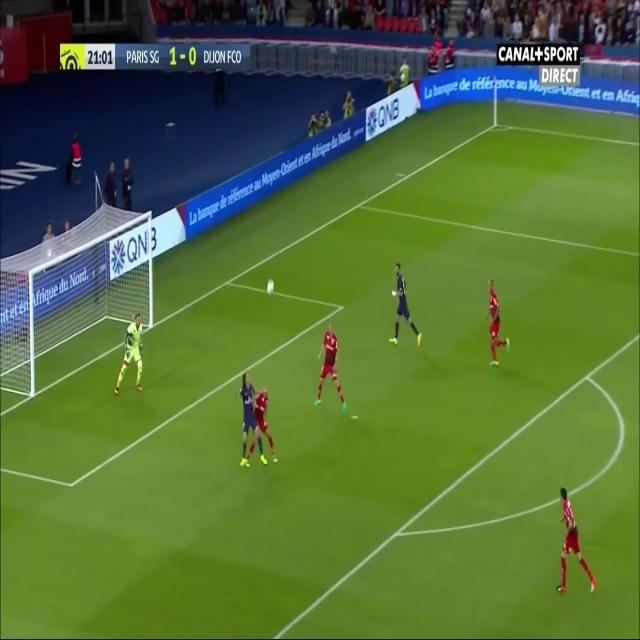Ball: (266, 277, 278, 297)
Goalkeeper: (112, 312, 145, 397)
Player: (555, 485, 600, 599), (312, 320, 347, 412), (388, 259, 422, 349), (247, 386, 283, 469), (236, 368, 262, 466), (485, 275, 512, 369)
